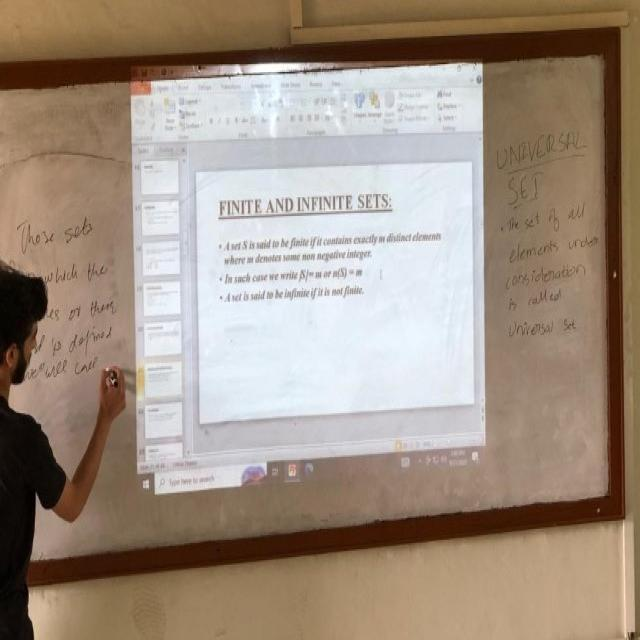Instructor: (0, 236, 54, 640)
Slide: (128, 56, 486, 511)
White-board: (0, 43, 622, 582)
